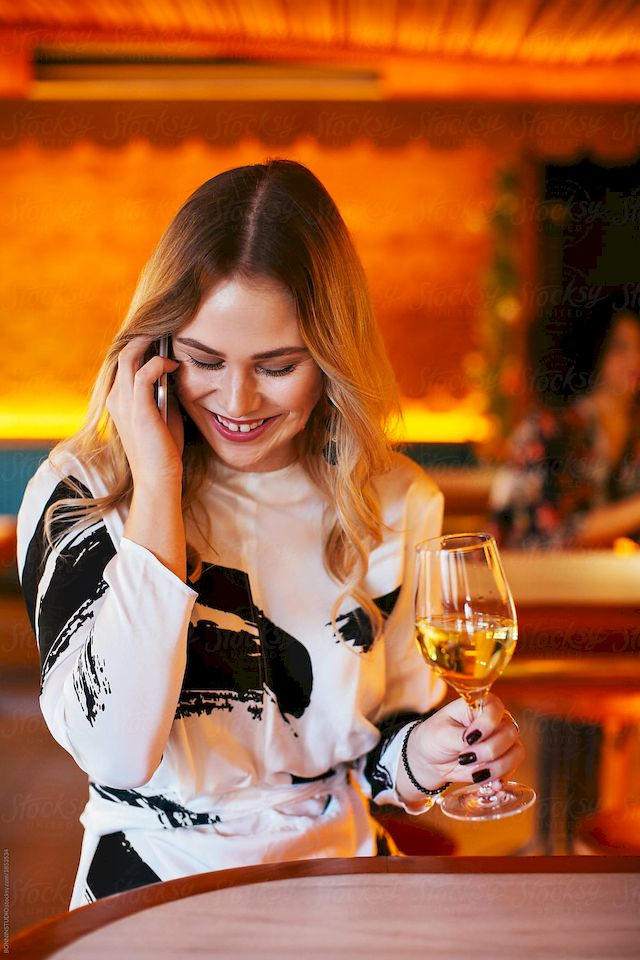phone: (122, 328, 187, 424)
talk: (108, 312, 324, 481)
